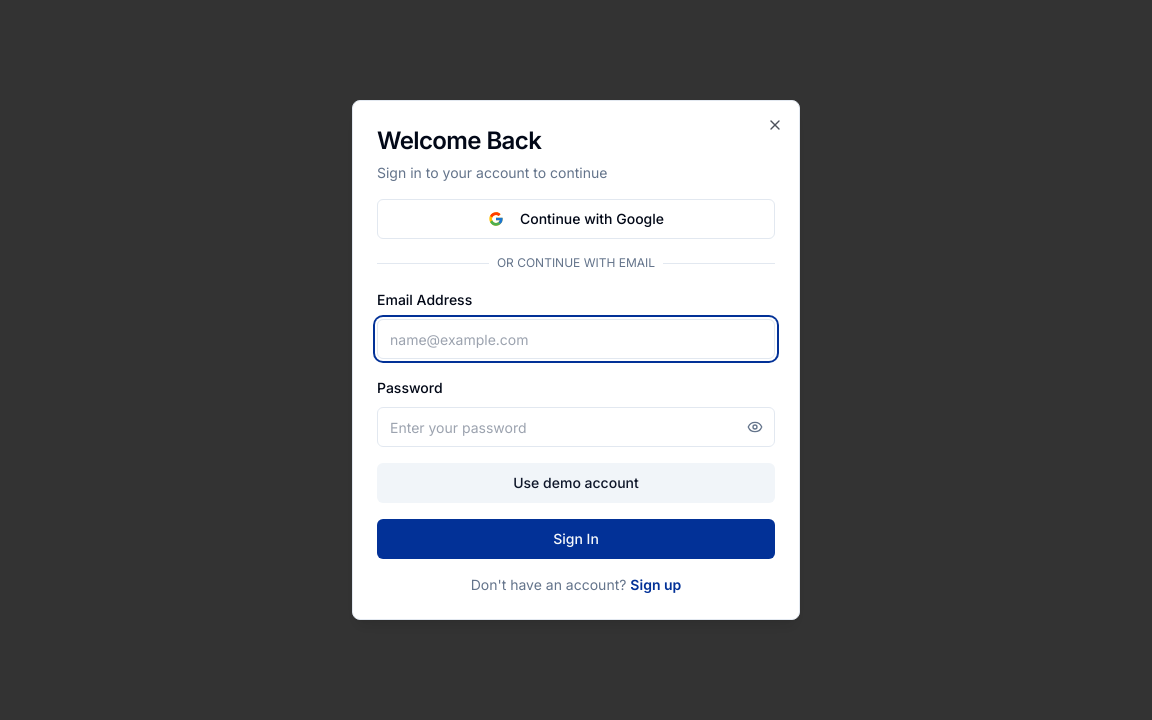
Test case: AuthModals - Authentication › should handle Google sign-in errors
The width and height of the screenshot is (1152, 720).
Click the button "Continue with Google": (576, 219) [377, 199, 775, 239]
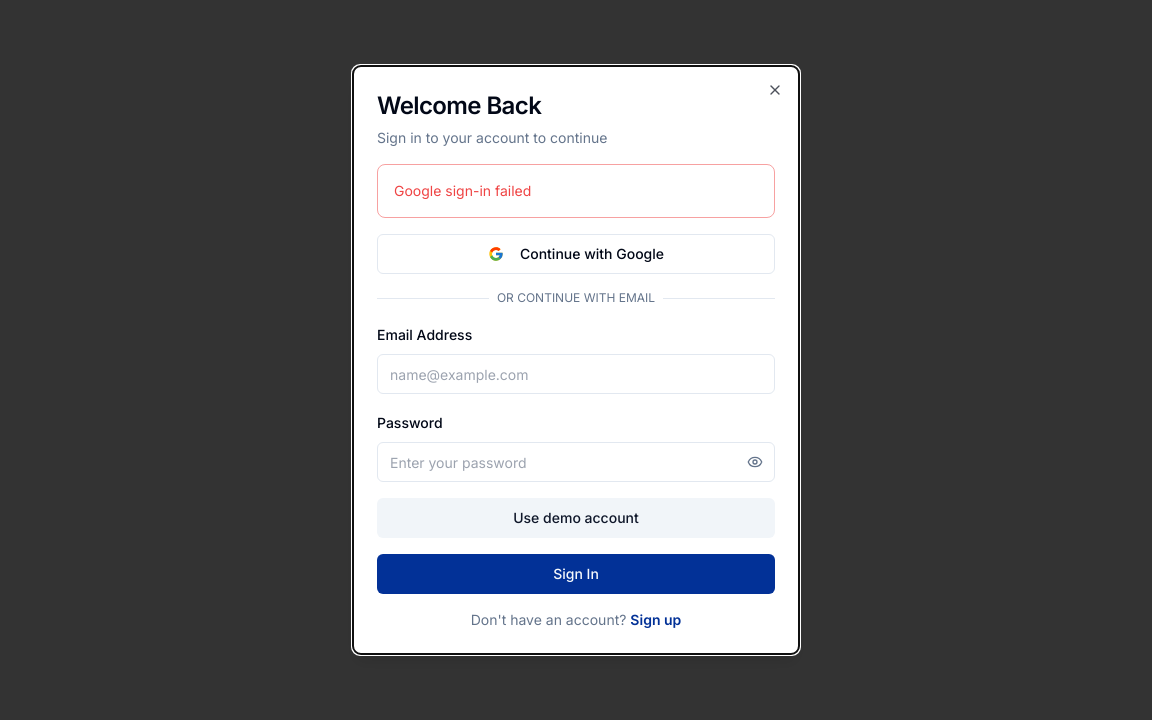
Now the text "Google sign-in failed" is shown, box [394, 182, 531, 199]
